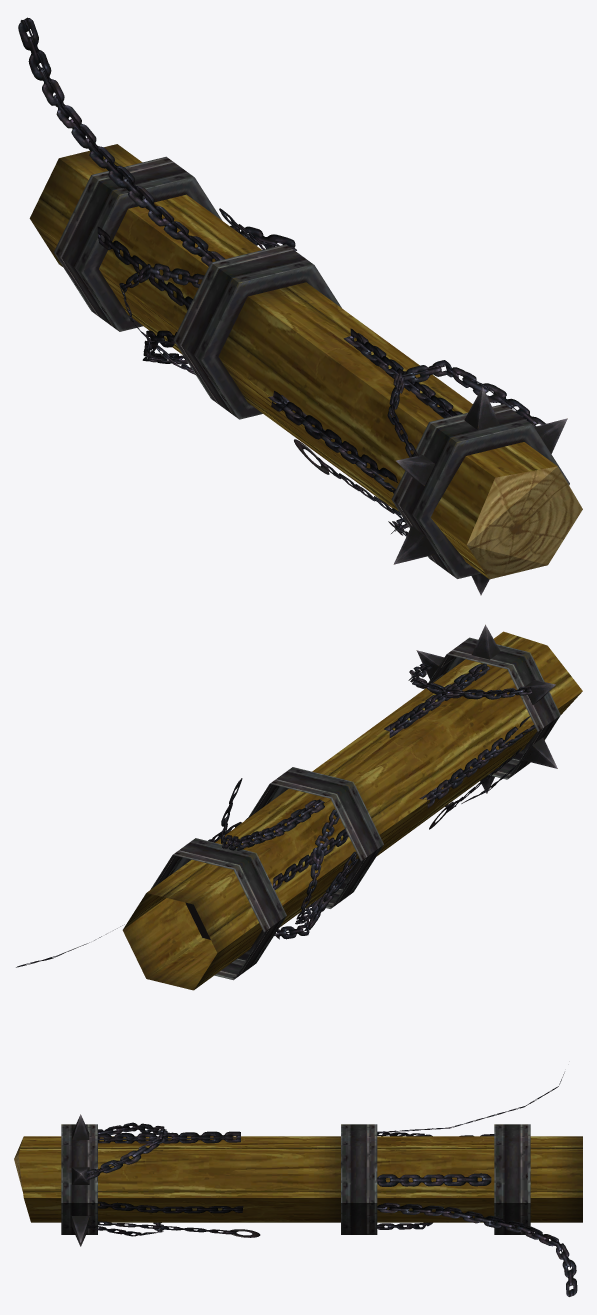
The model's file is juqing_yewai_244_xingzhuang01.obj.
3 views of the same model, one above another, from view 1: azimuth 30°, elevation 25°; view 2: azimuth 150°, elevation 25°; view 3: azimuth 270°, elevation 25° (orthographic). The views are drawn at different scales.
Parts seen in each view (by area): view 1: juqing_yewai_244_xingzhuang01; view 2: juqing_yewai_244_xingzhuang01; view 3: juqing_yewai_244_xingzhuang01.
Part boxes in pixels (x1,y1,x2,y2): juqing_yewai_244_xingzhuang01: [18, 17, 582, 595]; juqing_yewai_244_xingzhuang01: [16, 624, 582, 990]; juqing_yewai_244_xingzhuang01: [14, 1072, 582, 1296].
Bounding box in the file's own units: 77.65 × 82.33 × 207.
1 material, 1 textured.
